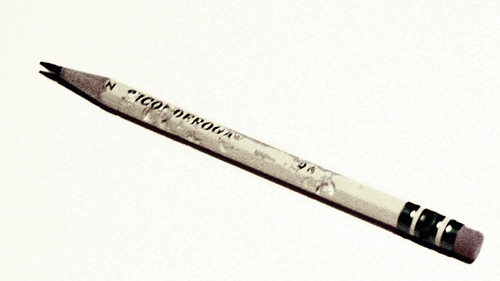pen_tip: (34, 55, 120, 116)
